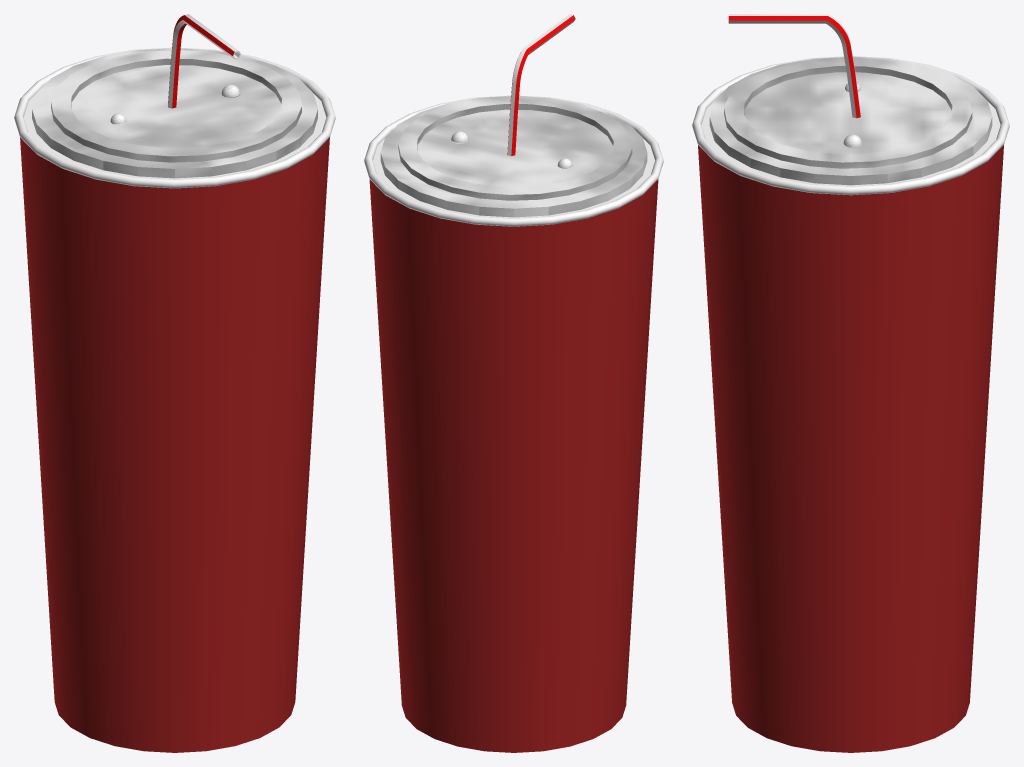
The picture shows the model from 3 angles, left to right: view 1: azimuth 30°, elevation 25°; view 2: azimuth 150°, elevation 25°; view 3: azimuth 270°, elevation 25°; orthographic projection. The views are drawn at different scales.
Parts seen in each view (by area): view 1: SketchUp (×7); view 2: SketchUp (×8); view 3: SketchUp (×8).
Part boxes in pixels (<box>): SketchUp (×7): <box>14,14,335,752</box>; SketchUp (×8): <box>364,14,663,752</box>; SketchUp (×8): <box>692,14,1009,752</box>.
Size of the model in its own units: 5.71 by 5.71 by 13.73.
Materials: 6 (1 with a texture image).
